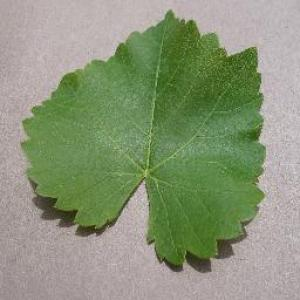Folha: (19, 8, 267, 267)
